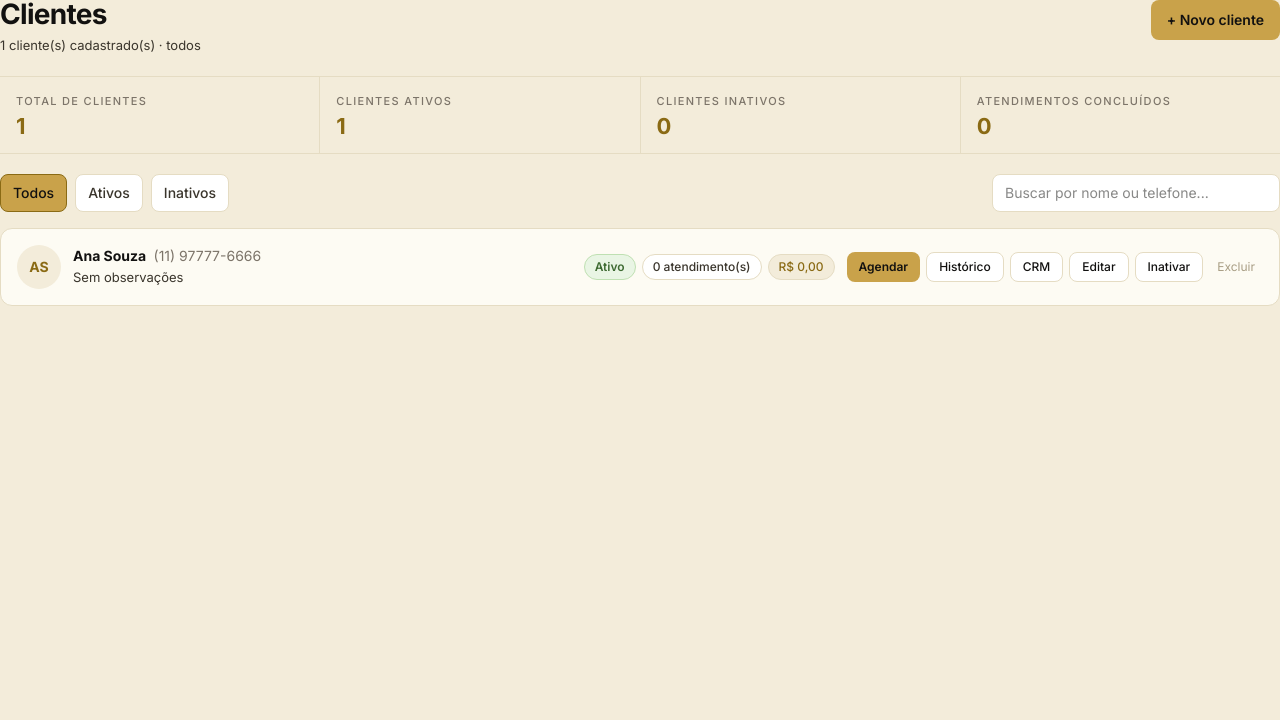
Test: Clientes — página (filtros, status e ações) › perfil avisa quando o cliente não tem assinatura no Audax Club
This screenshot has width=1280, height=720.
Click the button "Histórico" at {"x": 965, "y": 267}, box top-left (926, 252), bottom-right (1004, 282)
(page scrolled)
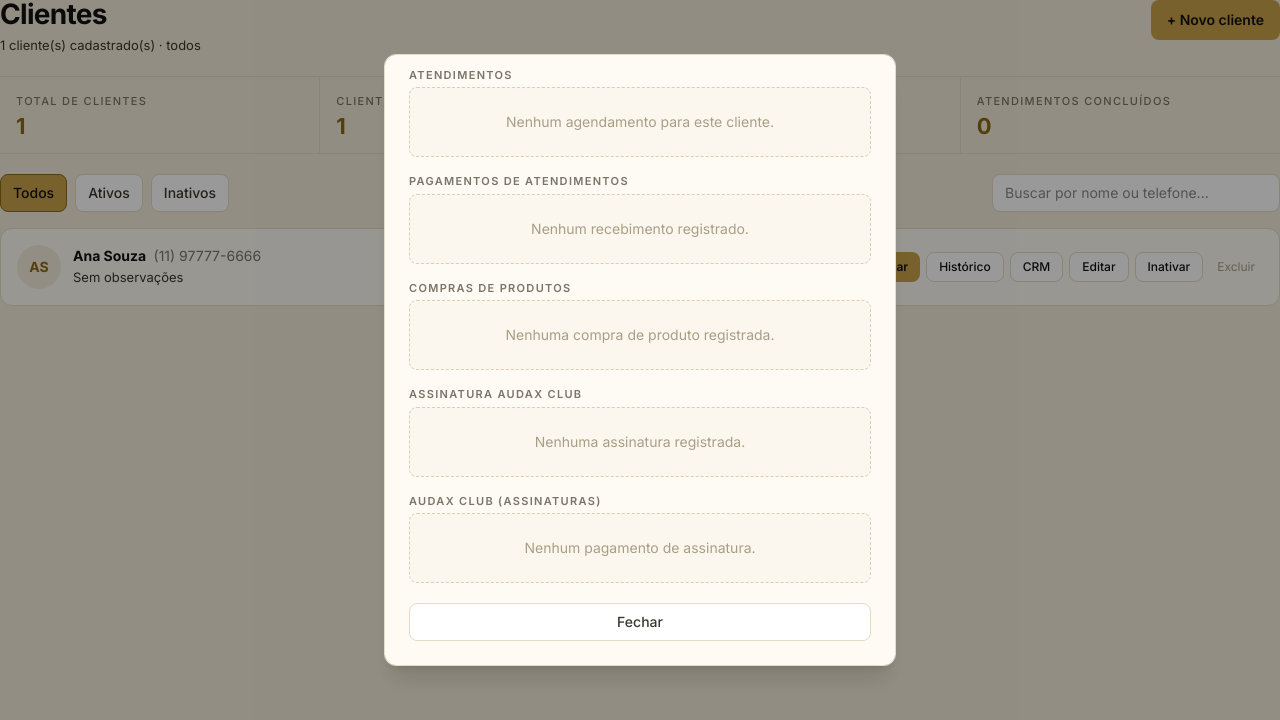
Expected: the text "Nenhuma assinatura registrada." is shown, top-left (409, 407), bottom-right (871, 477)
